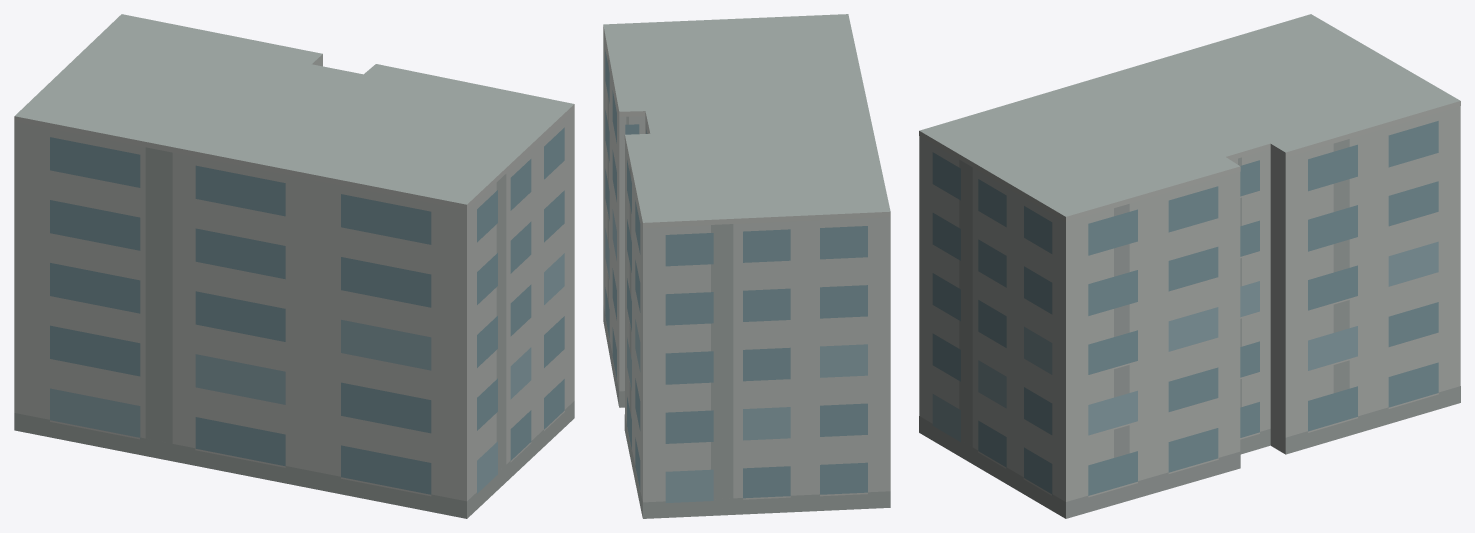
The model's file is survey-upis-32584063.glb.
3 renders of one model, left to right at view 1: azimuth 30°, elevation 25°; view 2: azimuth 150°, elevation 25°; view 3: azimuth 270°, elevation 25°, orthographic. The views are drawn at different scales.
Parts seen in each view (by area): view 1: survey-upis-32584063.tmp; view 2: survey-upis-32584063.tmp; view 3: survey-upis-32584063.tmp.
Part boxes in pixels (x1,y1,x2,y2): survey-upis-32584063.tmp: [14, 14, 574, 518]; survey-upis-32584063.tmp: [603, 14, 890, 518]; survey-upis-32584063.tmp: [919, 14, 1460, 518].
Size of the model in its own units: 20.18 by 14 by 22.76.
